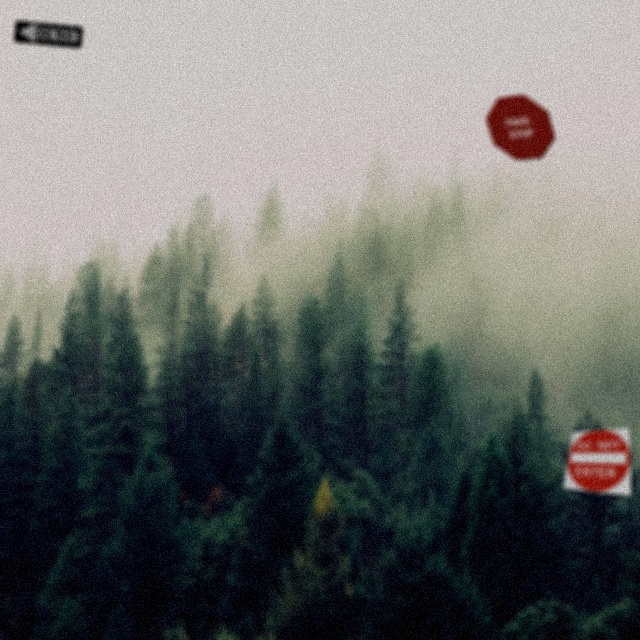DO_NOT_ENTER: (562, 427, 632, 497)
FAKE_STOP: (485, 94, 555, 160)
ONE_WAY_ left: (13, 20, 83, 48)
